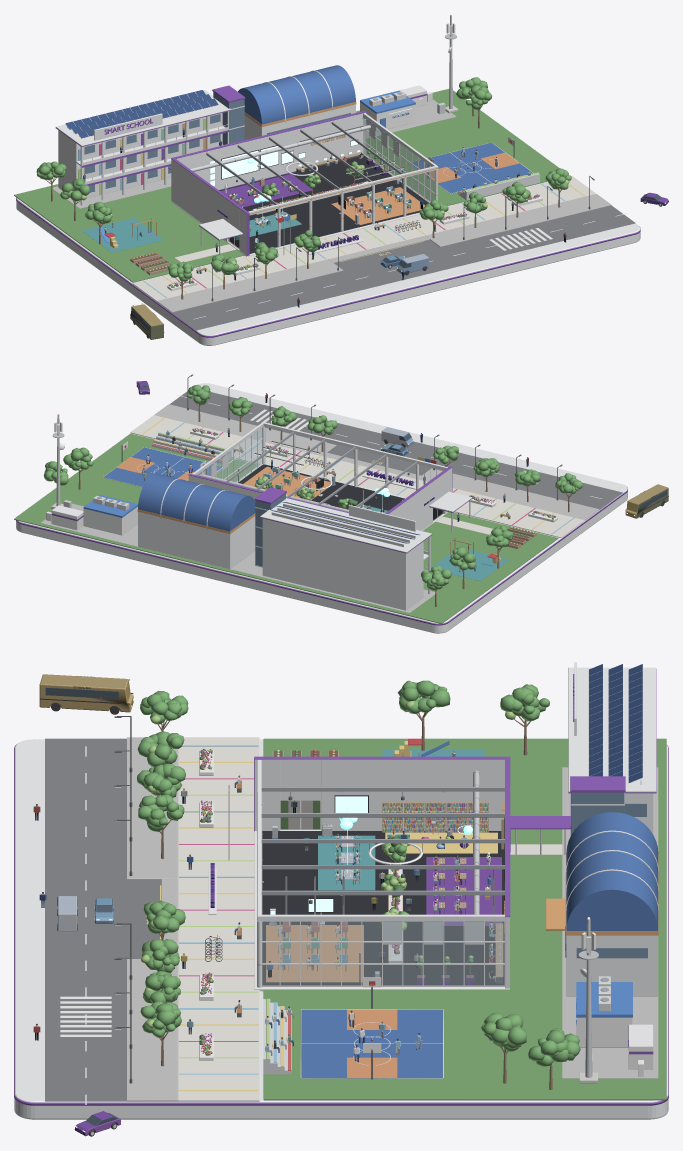
File: smart_learning.glb
3 renders of one model, top to bottom at view 1: azimuth 30°, elevation 25°; view 2: azimuth 150°, elevation 25°; view 3: azimuth 270°, elevation 25°, orthographic. The views are drawn at different scales.
Visible parts, largest first — view 1: bake-static_site, bake-static_building, bake-static_tower, vbake-static_site, vbake-static_tower, vbake-static_building, glass-static_building-glass, bake-hot-assessment, bake-hot-ai-learning, schoolbus, vbake-hot-assessment, bake-hot-cloud-lms (+2 smaller); view 2: bake-static_site, bake-static_tower, vbake-static_site, bake-static_building, glass-static_building-glass, vbake-static_tower, vbake-static_building, schoolbus, bake-hot-assessment, vbake-hot-assessment, car_west; view 3: bake-static_site, bake-static_building, bake-static_tower, vbake-static_site, glass-static_building-glass, vbake-static_building, vbake-static_tower, bake-hot-assessment, schoolbus, bake-hot-ai-learning, bake-hot-cloud-lms, bake-hot-iot-classrooms (+5 smaller).
Part boxes in pixels (x1,y1,x2,y2): bake-static_site: [14, 89, 640, 345]; bake-static_building: [171, 111, 438, 256]; bake-static_tower: [55, 15, 458, 205]; vbake-static_site: [36, 77, 627, 319]; vbake-static_tower: [65, 23, 456, 195]; vbake-static_building: [203, 118, 437, 234]; glass-static_building-glass: [364, 118, 434, 202]; bake-hot-assessment: [331, 187, 425, 224]; bake-hot-ai-learning: [220, 145, 313, 207]; schoolbus: [130, 303, 164, 339]; vbake-hot-assessment: [338, 169, 411, 224]; bake-hot-cloud-lms: [235, 212, 301, 240]; bake-static_site: [14, 383, 627, 633]; bake-static_tower: [51, 414, 432, 610]; vbake-static_site: [43, 374, 601, 606]; bake-static_building: [188, 422, 452, 531]; glass-static_building-glass: [205, 428, 262, 482]; vbake-static_tower: [46, 422, 427, 568]; vbake-static_building: [198, 431, 417, 509]; schoolbus: [625, 484, 668, 518]; bake-hot-assessment: [243, 466, 330, 499]; vbake-hot-assessment: [238, 466, 335, 496]; car_west: [381, 427, 413, 447]; bake-static_site: [14, 737, 668, 1119]; bake-static_building: [254, 756, 510, 991]; bake-static_tower: [546, 662, 658, 1083]; vbake-static_site: [60, 680, 580, 1104]; glass-static_building-glass: [262, 922, 504, 985]; vbake-static_building: [257, 771, 504, 985]; vbake-static_tower: [565, 664, 643, 1076]; bake-hot-assessment: [266, 925, 363, 982]; schoolbus: [39, 674, 133, 714]; bake-hot-ai-learning: [426, 817, 504, 925]; bake-hot-cloud-lms: [318, 795, 375, 890]; bake-hot-iot-classrooms: [368, 843, 483, 944].
Bounding box in the file's own units: 101 × 19.77 × 64.08.
